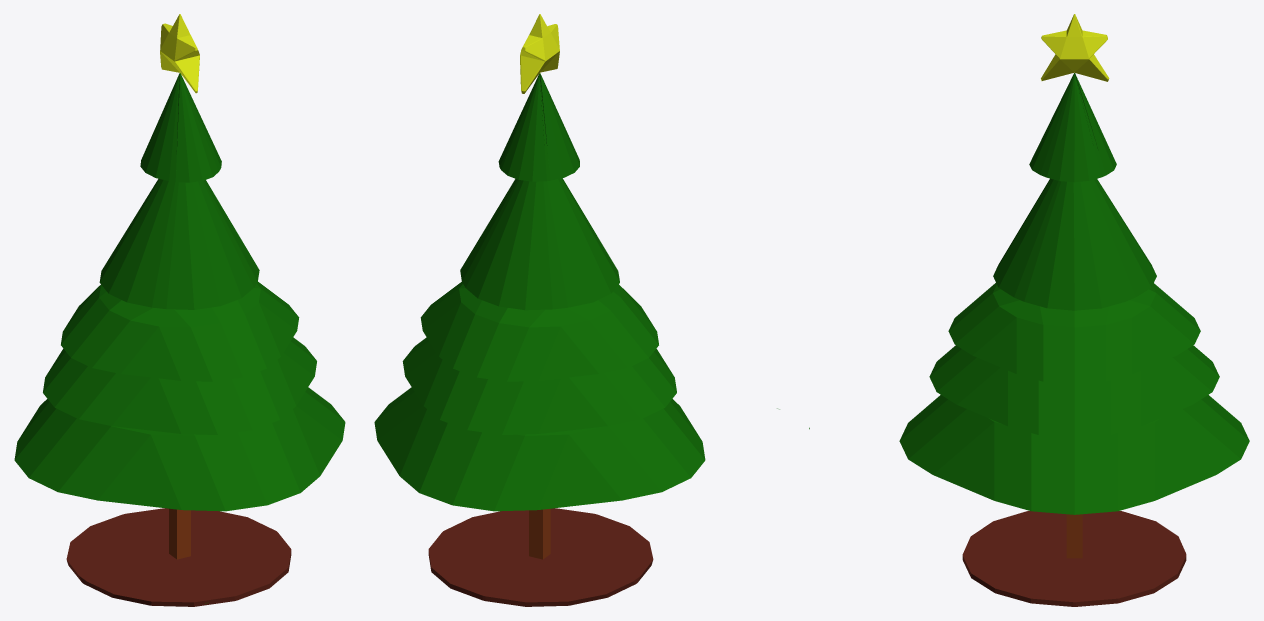
Rendered from christmastree.fbx.
3 views of the same model, side by side, from view 1: azimuth 30°, elevation 25°; view 2: azimuth 150°, elevation 25°; view 3: azimuth 270°, elevation 25° (orthographic).
Visible parts, largest first — view 1: Cube; view 2: Cube; view 3: Cube.
Boxes of the visible parts, x1,y1,x2,y2 form: Cube: [14, 14, 345, 606]; Cube: [374, 14, 779, 606]; Cube: [809, 14, 1249, 606].
Bounding box in the file's own units: 1260 × 2172 × 1590.
